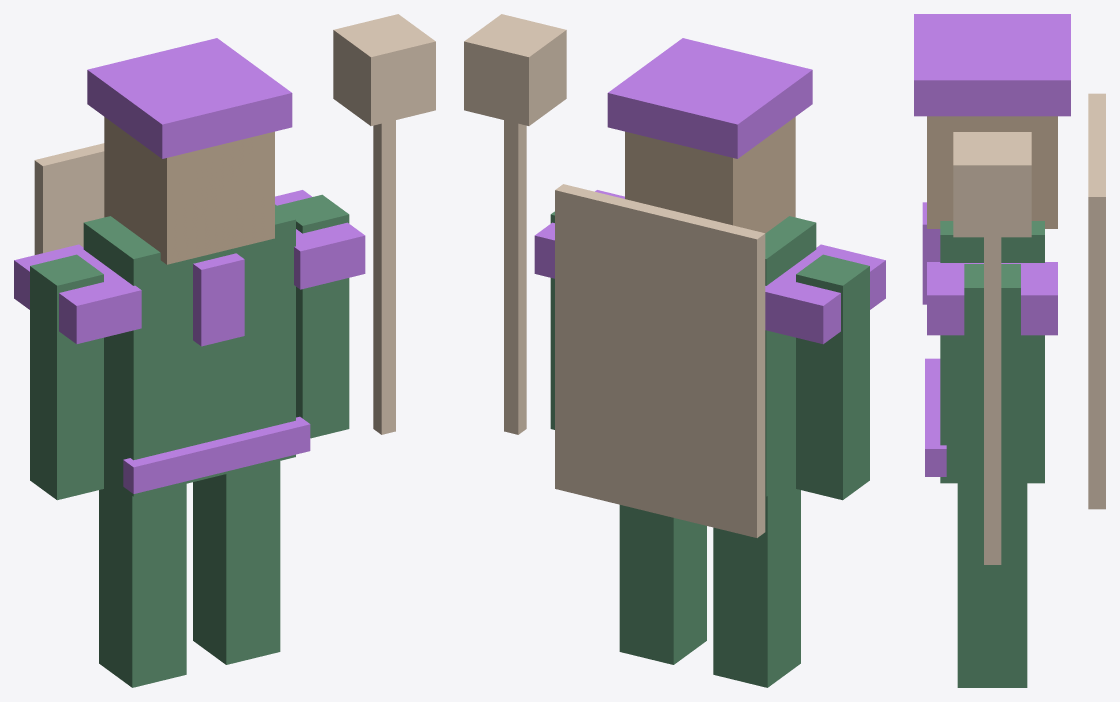
Rendered from 14_korra_brightlock_mechanist_at_meditation.glb.
The picture shows the model from 3 angles, left to right: view 1: azimuth 30°, elevation 25°; view 2: azimuth 150°, elevation 25°; view 3: azimuth 270°, elevation 25°; orthographic projection. The views are drawn at different scales.
Parts seen in each view (by area): view 1: Korra Brightlock, Mechanist at Meditation; view 2: Korra Brightlock, Mechanist at Meditation; view 3: Korra Brightlock, Mechanist at Meditation.
Part boxes in pixels (x1,y1,x2,y2): Korra Brightlock, Mechanist at Meditation: [14, 14, 435, 687]; Korra Brightlock, Mechanist at Meditation: [464, 14, 885, 687]; Korra Brightlock, Mechanist at Meditation: [914, 14, 1105, 687].
Size of the model in its own units: 1.02 by 1.51 by 0.4347.
